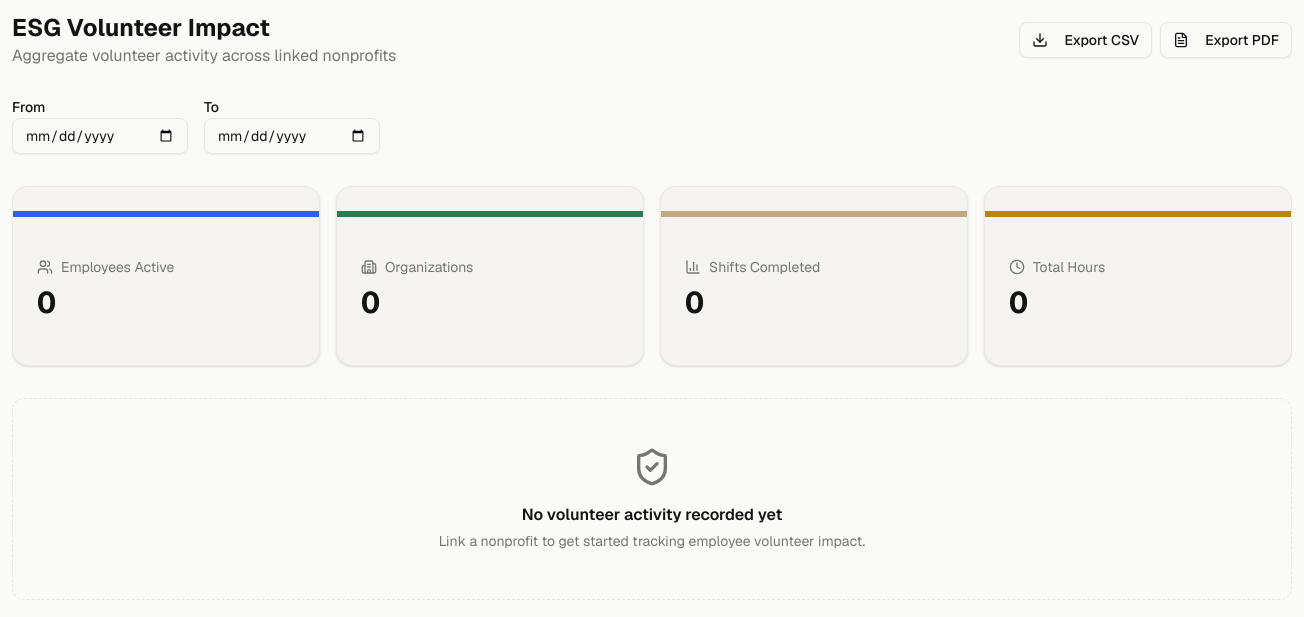
Test: ESGTeamDashboardPage — ESG query states › shows a validation state (not fabricated zeros) for an inverted date range
Type "2026-02-01" into the date field labelled "From".
click(100, 136); type("2026-02-01")  # box top-left (12, 118), bottom-right (188, 154)
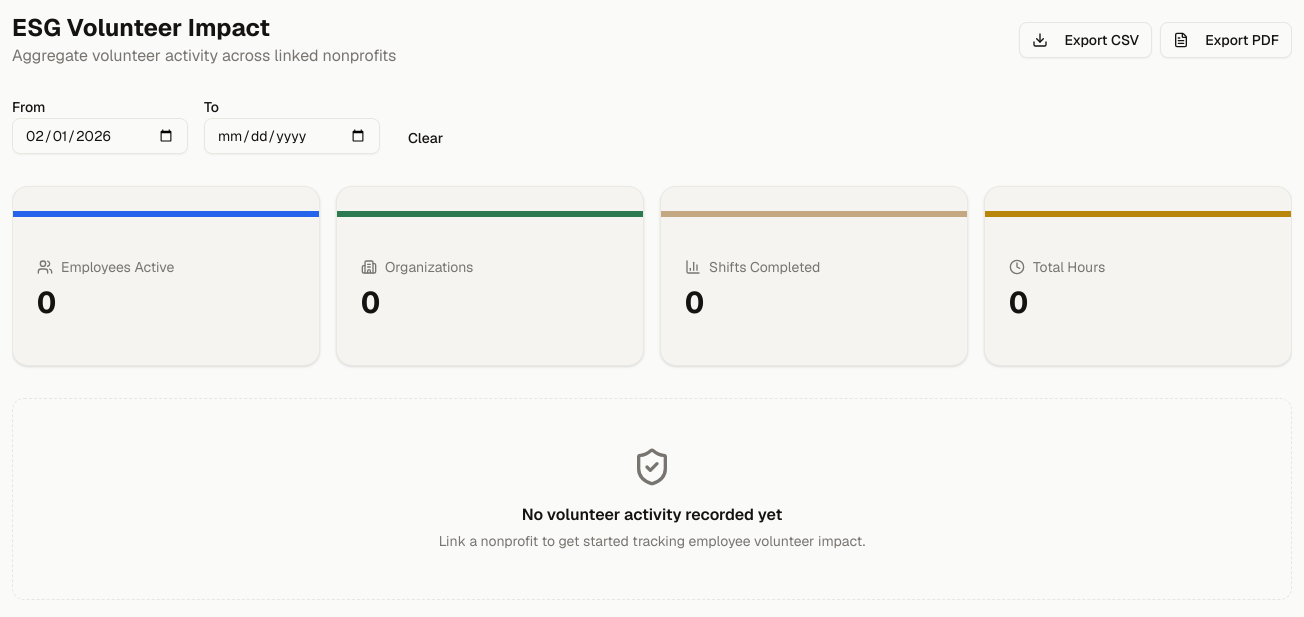
Type "2026-01-01" into the date field labelled "To".
click(292, 136); type("2026-01-01")  # box top-left (204, 118), bottom-right (380, 154)
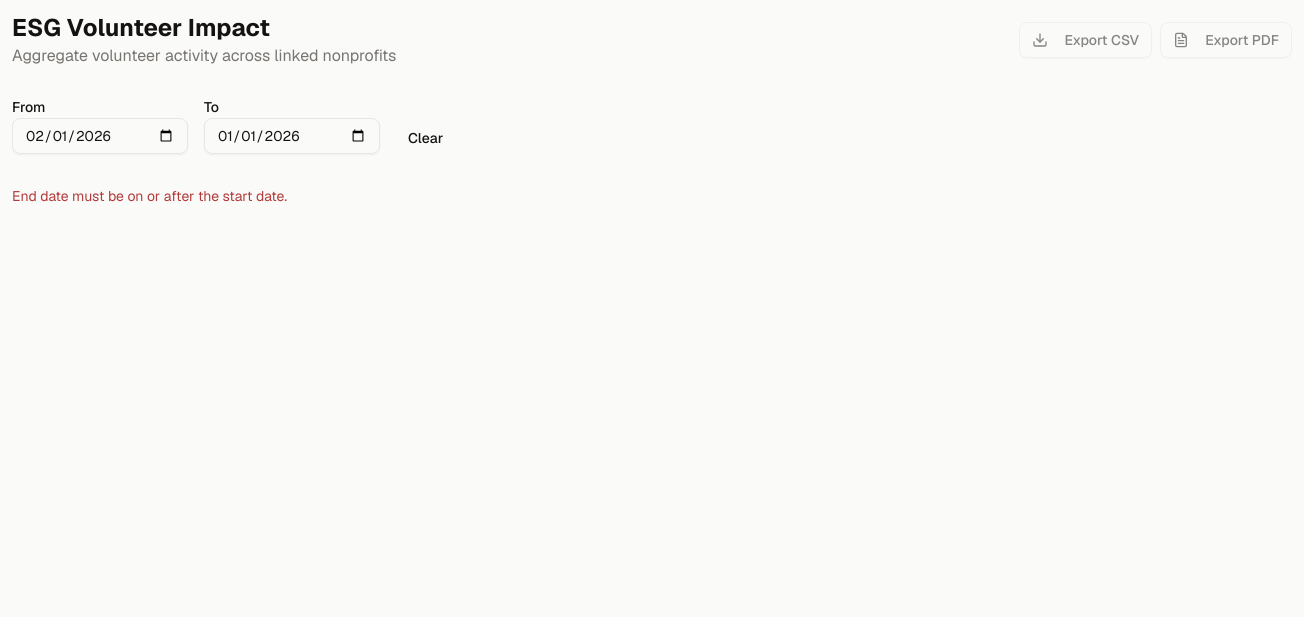
Expected: the text "End date must be on or after the start date." is shown, top-left (12, 187), bottom-right (287, 205)
Expected: the text "Employees Active" is gone
Expected: the heading "No volunteer activity recorded yet" is gone
